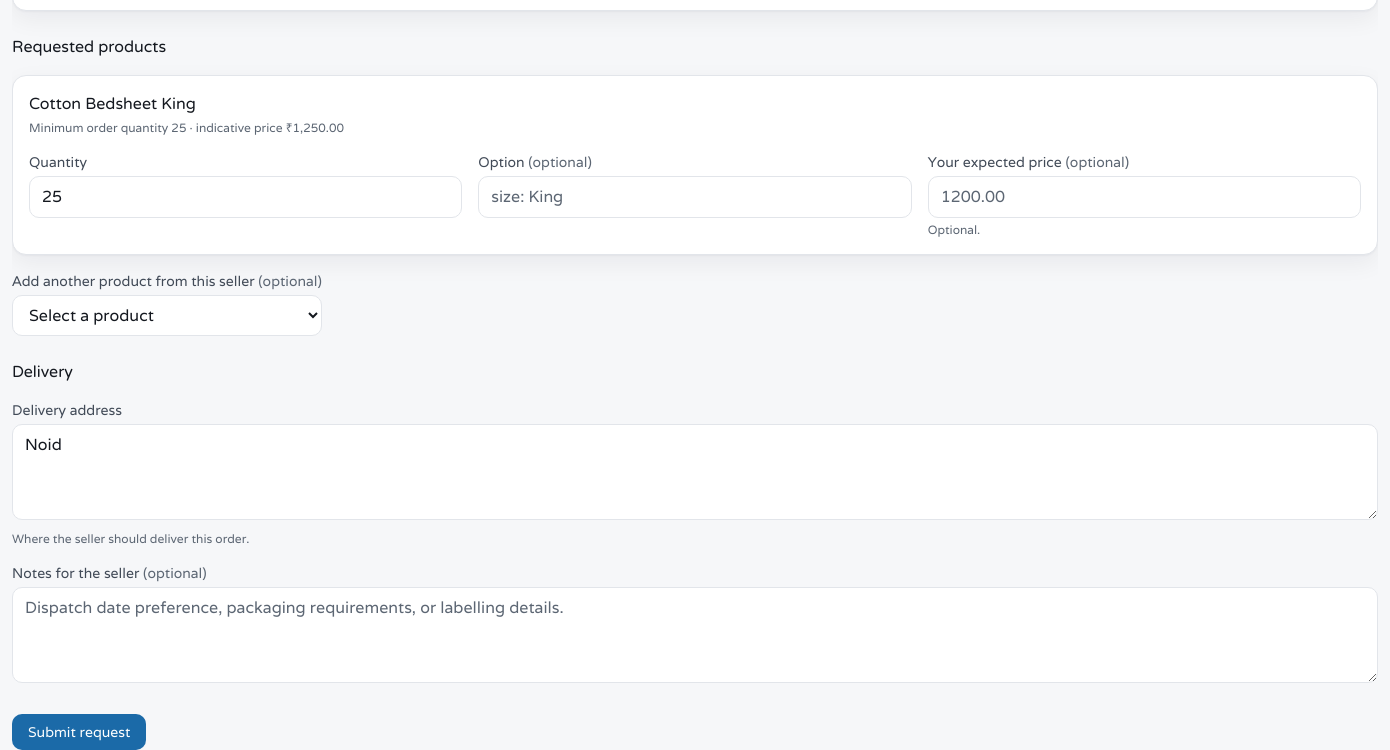
Test: OrderRequestForm › refuses an incomplete delivery address
(page scrolled)
Click the button "Submit request" at (79, 732), box [12, 714, 146, 749]
(page scrolled)
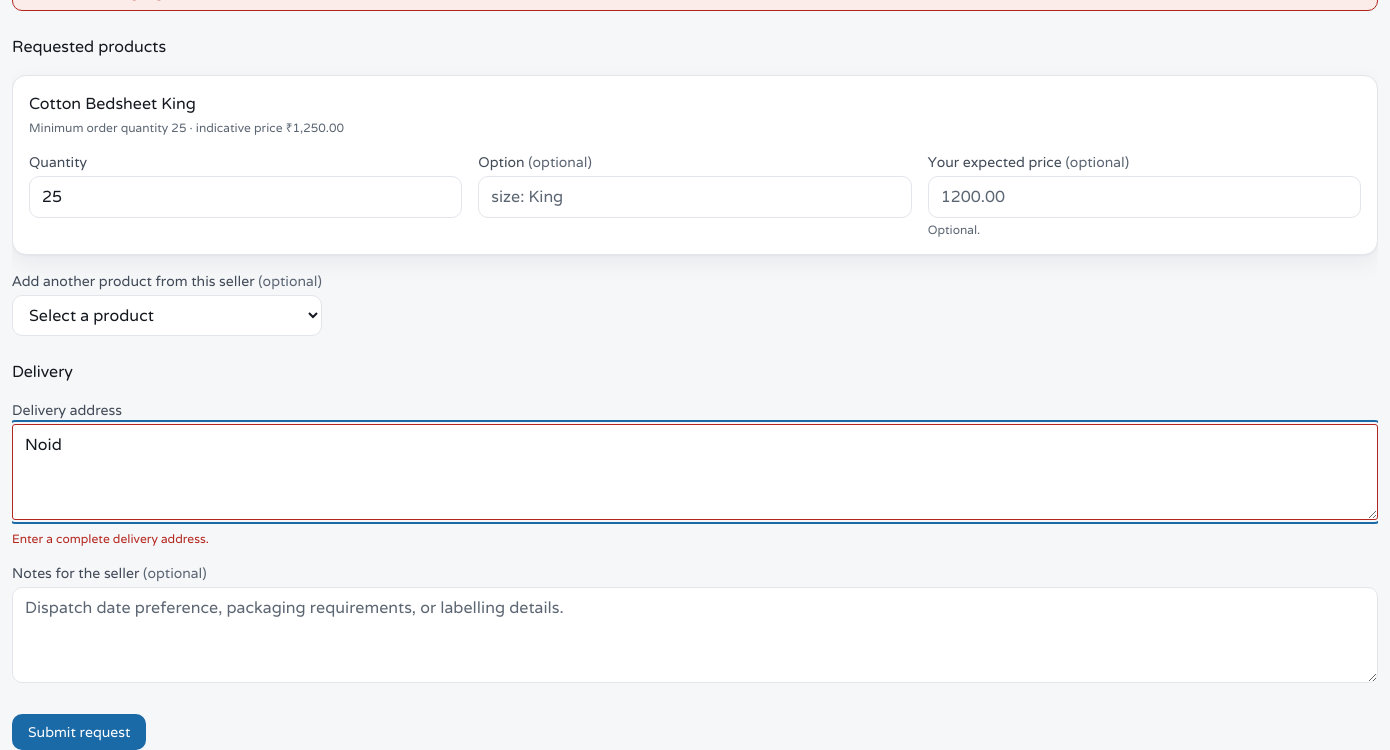
Now the text "Enter a complete delivery address." is shown, box [12, 531, 209, 546]
